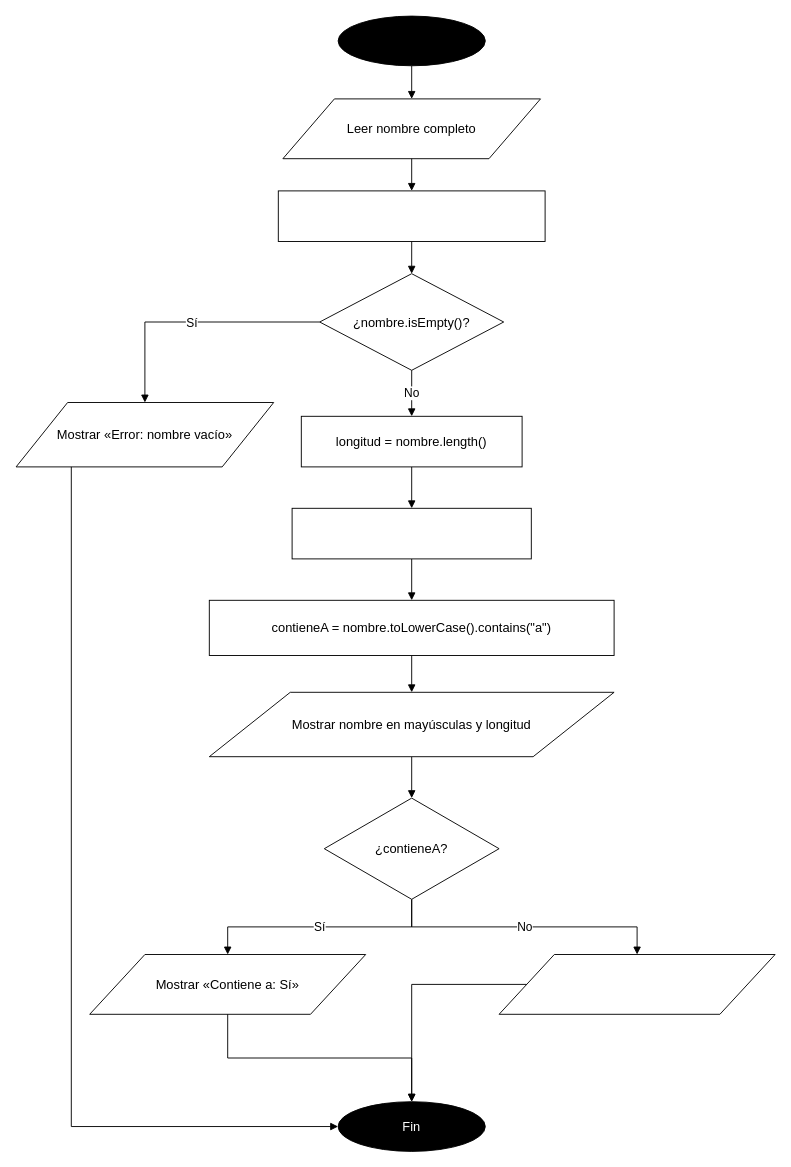
This 791x1167 diagram has some shape labels left out. Each missing label, with the centre of its shape:
Inicio: pixel 411 40
mayusculas = nombre.toUpperCase(): pixel 411 533
Mostrar «Contiene a: No»: pixel 636 984
nombre = nombre.trim(): pixel 411 216
